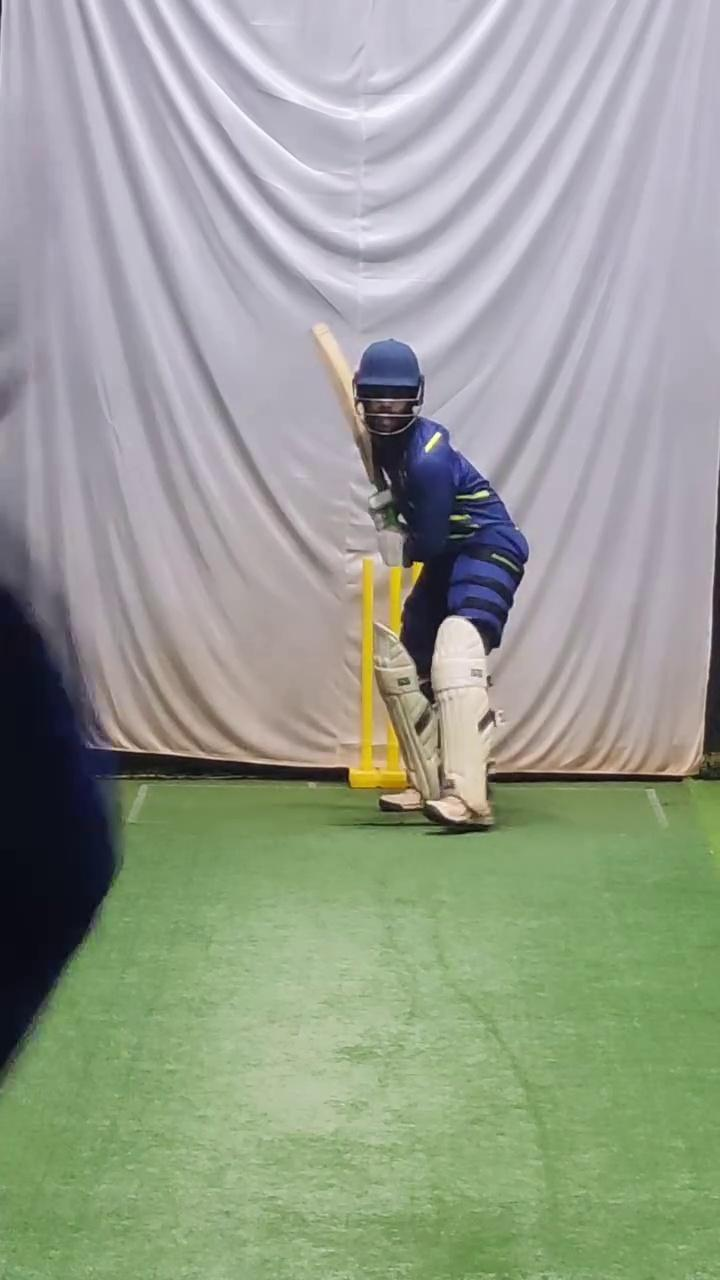bat: (306, 317, 385, 488)
